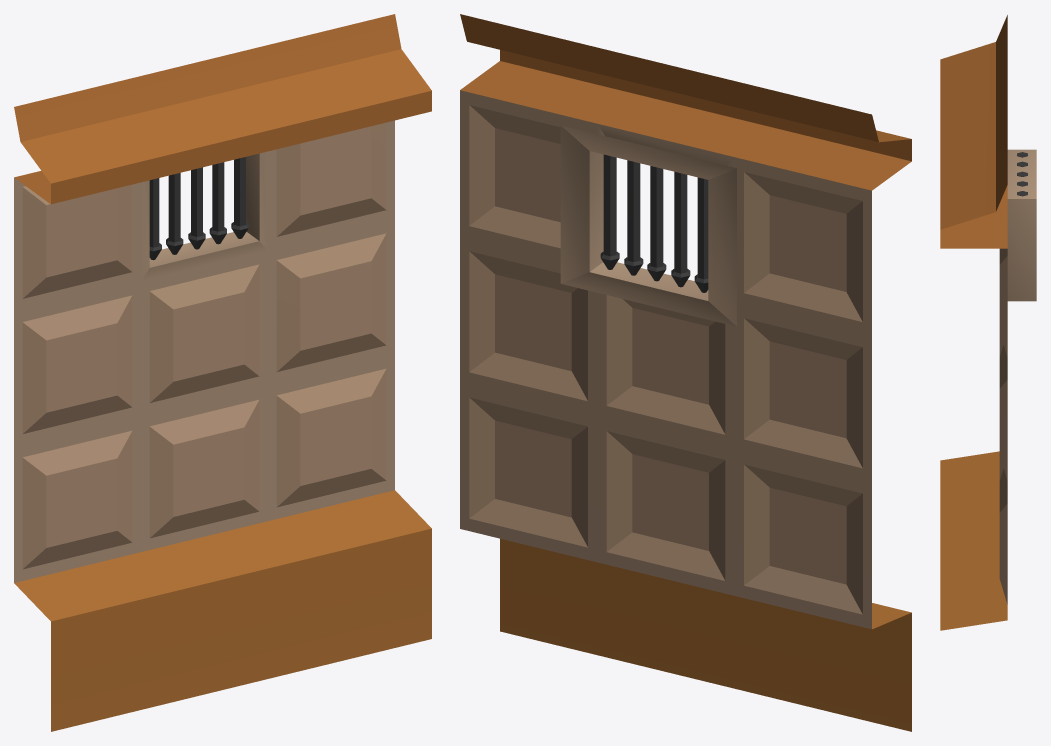
Rendered from Wall_bumb_window_B.fbx.
3 renders of one model, left to right at view 1: azimuth 30°, elevation 25°; view 2: azimuth 150°, elevation 25°; view 3: azimuth 270°, elevation 25°, orthographic. The views are drawn at different scales.
Parts seen in each view (by area): view 1: Wall_bumb_window_B; view 2: Wall_bumb_window_B; view 3: Wall_bumb_window_B.
Boxes of the visible parts, x1,y1,x2,y2 form: Wall_bumb_window_B: (14, 14, 431, 731); Wall_bumb_window_B: (460, 14, 911, 731); Wall_bumb_window_B: (940, 15, 1036, 630).
Bounding box in the file's own units: 200 × 300 × 47.92.
